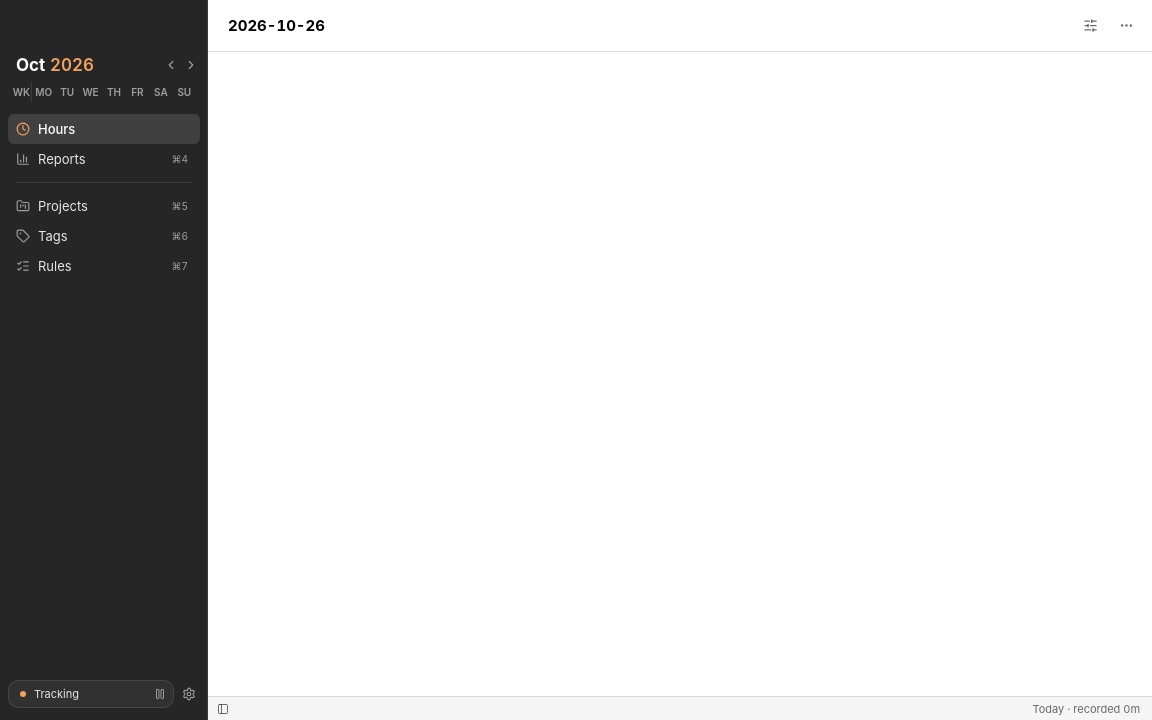
Scenario: App › projects › finds a project through the palette and opens its report
The width and height of the screenshot is (1152, 720).
Expected: the navigation bar named "Views" is shown, x1=0 y1=114 x2=208 y2=281
Type keys "{Meta>}k{/Meta}"
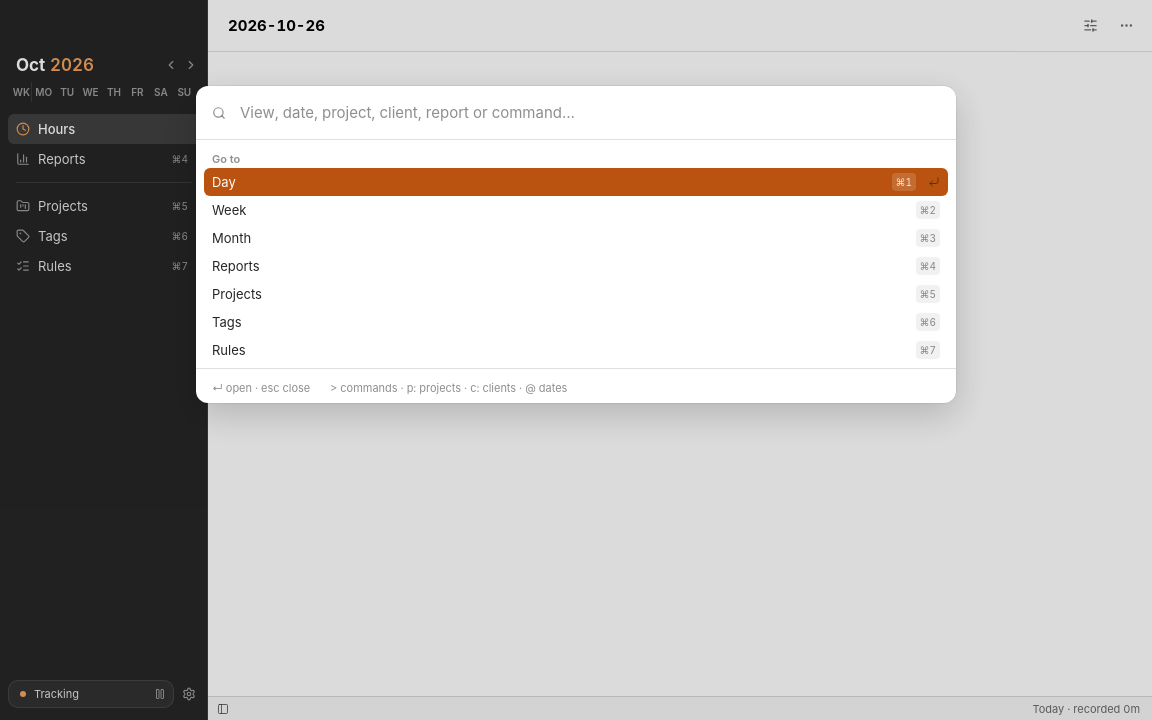
Type "p:web" into the field named "Search" at (589, 113), box x1=238 y1=102 x2=940 y2=123
Then press Enter
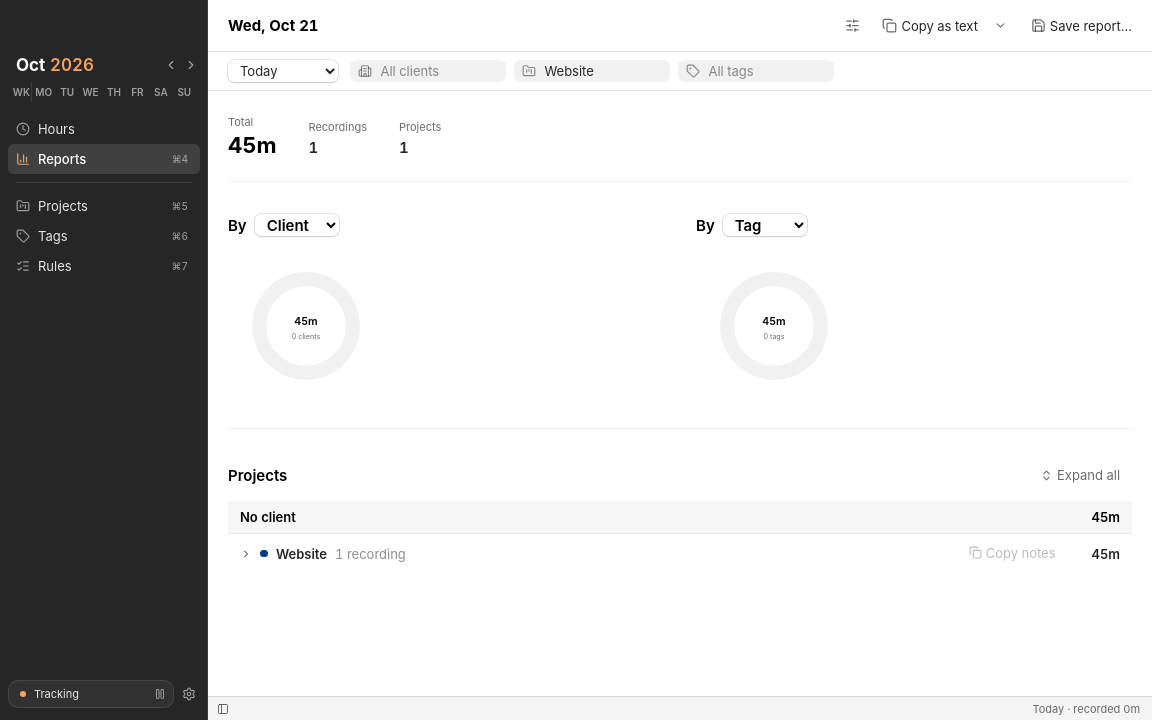
Expected: the element named "Reports" is shown
